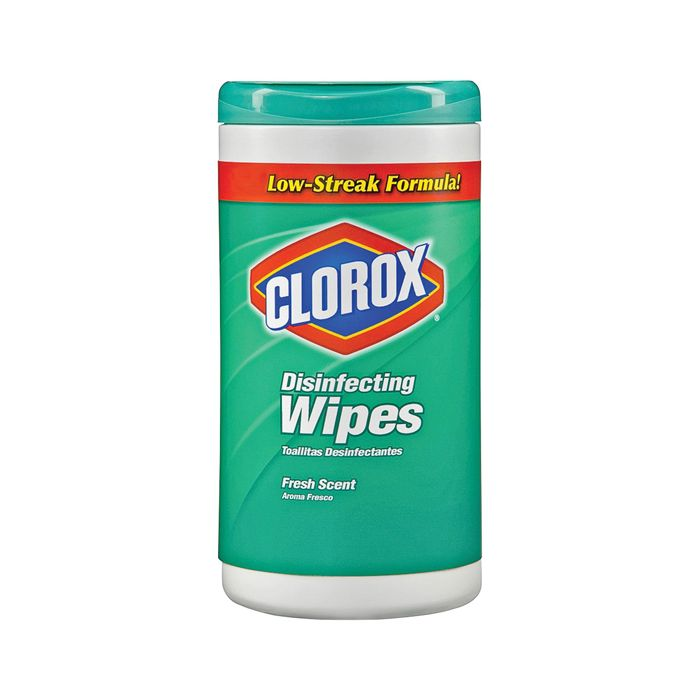Wipes: (213, 74, 491, 623)
